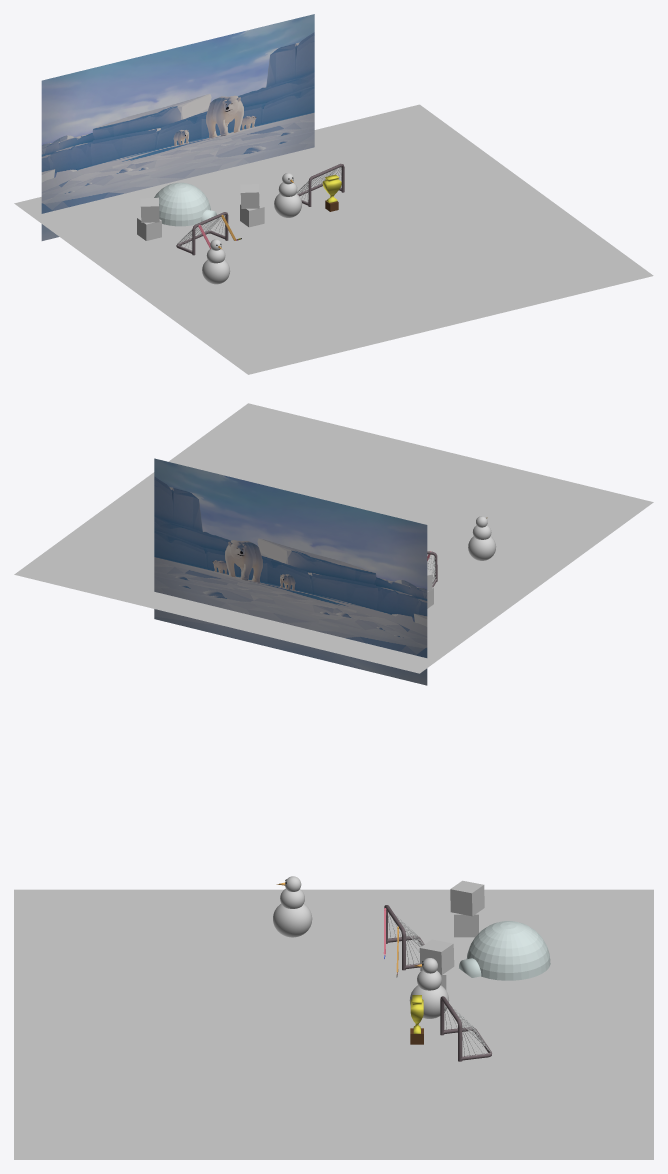
File: Scena bez lika i padajucih elemenatafbx.fbx
3 renders of one model, top to bottom at view 1: azimuth 30°, elevation 25°; view 2: azimuth 150°, elevation 25°; view 3: azimuth 270°, elevation 25°, orthographic. The views are drawn at different scales.
Visible parts, largest first — view 1: Led podloga na kojoj sve stoji, Polarni medvjed slika u pozadini, Iglu, Koca leda 2, Kocka leda 1, Snjegovic 1, Snjegovic 2, Gol 1, Gol 2; view 2: Led podloga na kojoj sve stoji, Polarni medvjed slika u pozadini, Snjegovic 1; view 3: Led podloga na kojoj sve stoji, Iglu, Snjegovic 1, Kocka leda 1, Snjegovic 2, Gol 2, Gol 1, Koca leda 2.
Part boxes in pixels (bbox=[...]): Led podloga na kojoj sve stoji: bbox=[14, 104, 653, 374]; Polarni medvjed slika u pozadini: bbox=[41, 14, 314, 240]; Iglu: bbox=[154, 182, 216, 226]; Koca leda 2: bbox=[240, 184, 264, 227]; Kocka leda 1: bbox=[137, 197, 161, 240]; Snjegovic 1: bbox=[202, 239, 230, 284]; Snjegovic 2: bbox=[274, 173, 301, 217]; Gol 1: bbox=[176, 212, 228, 255]; Gol 2: bbox=[296, 163, 344, 206]; Led podloga na kojoj sve stoji: bbox=[14, 403, 653, 673]; Polarni medvjed slika u pozadini: bbox=[154, 458, 427, 685]; Snjegovic 1: bbox=[468, 516, 496, 560]; Led podloga na kojoj sve stoji: bbox=[14, 889, 653, 1159]; Iglu: bbox=[459, 921, 550, 980]; Snjegovic 1: bbox=[273, 876, 312, 937]; Kocka leda 1: bbox=[450, 880, 484, 937]; Snjegovic 2: bbox=[409, 958, 449, 1018]; Gol 2: bbox=[440, 996, 491, 1061]; Gol 1: bbox=[384, 905, 424, 970]; Koca leda 2: bbox=[419, 939, 454, 990].
Size of the model in its own units: 1473 by 557 by 1473.
